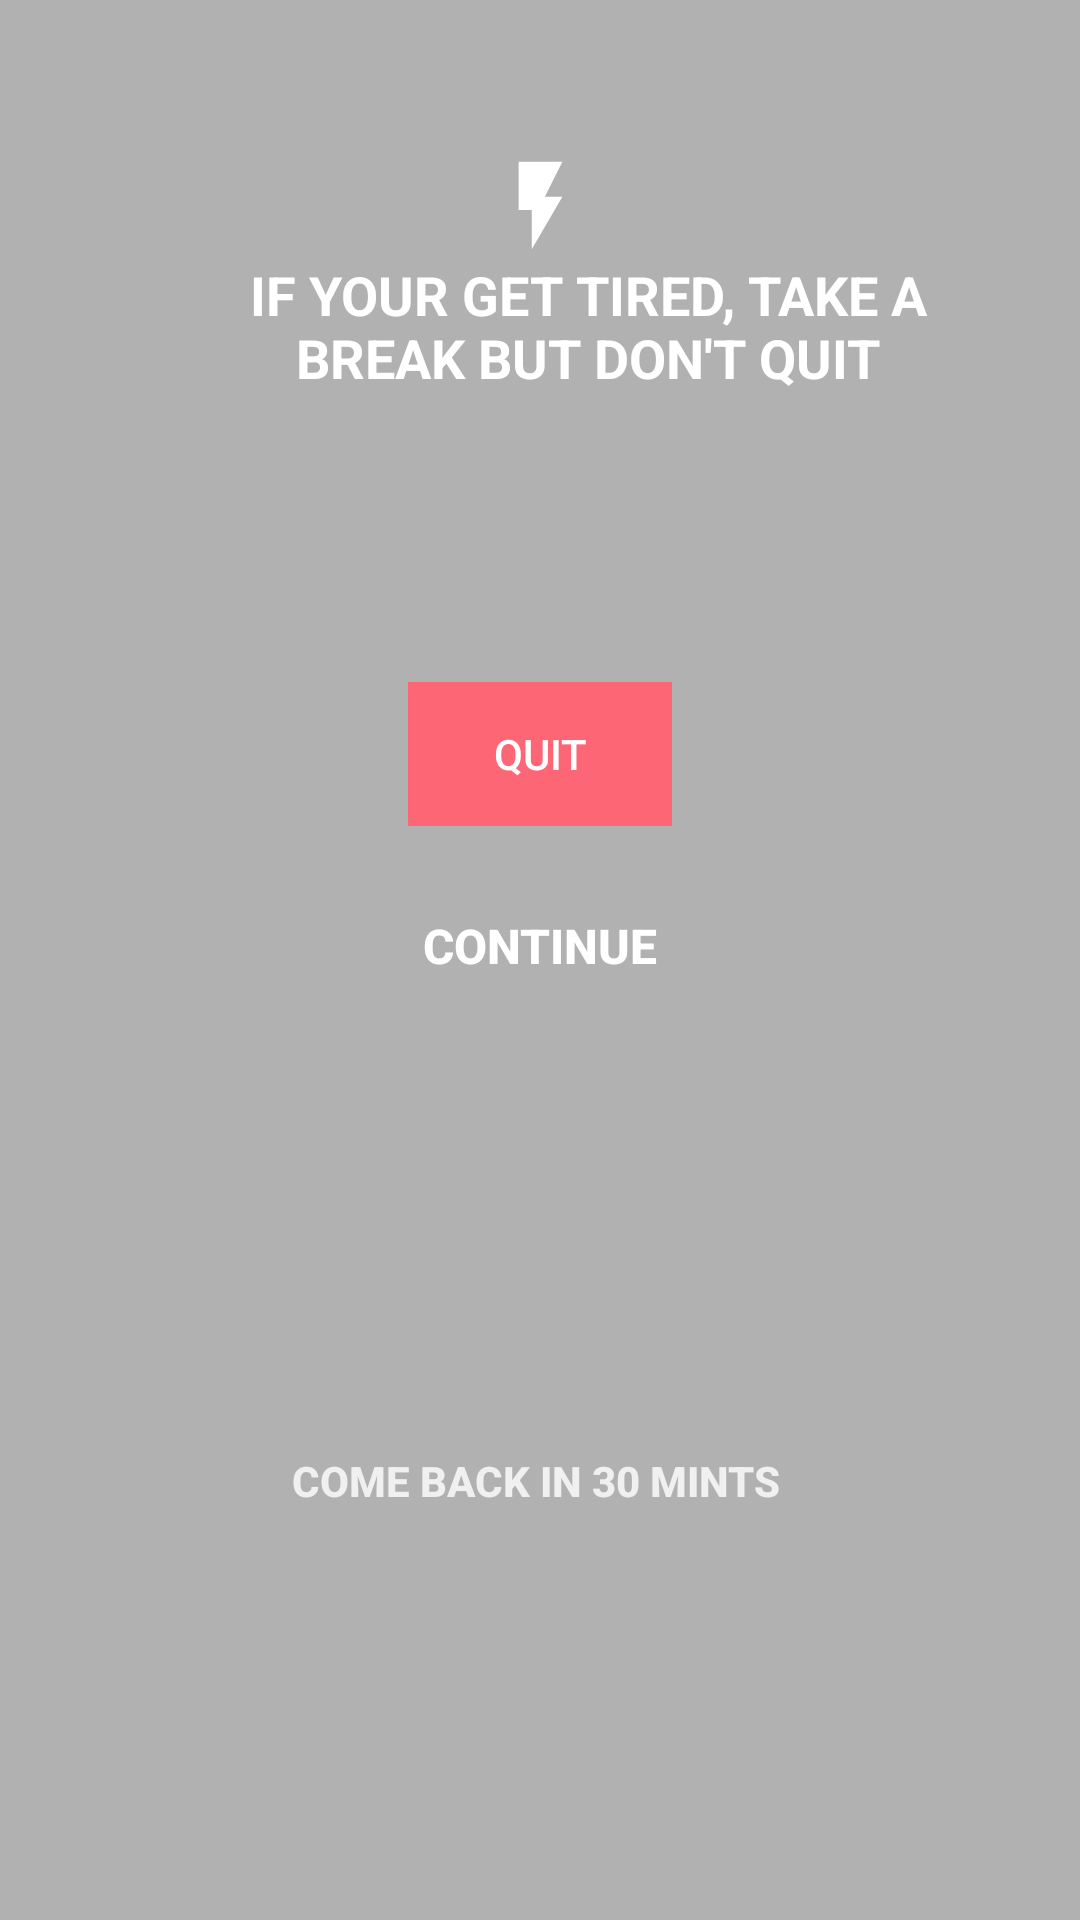

Screen size 1080 x 1920. Icon name, then its center in pixels as (x,y):
flash on: (540,205)
